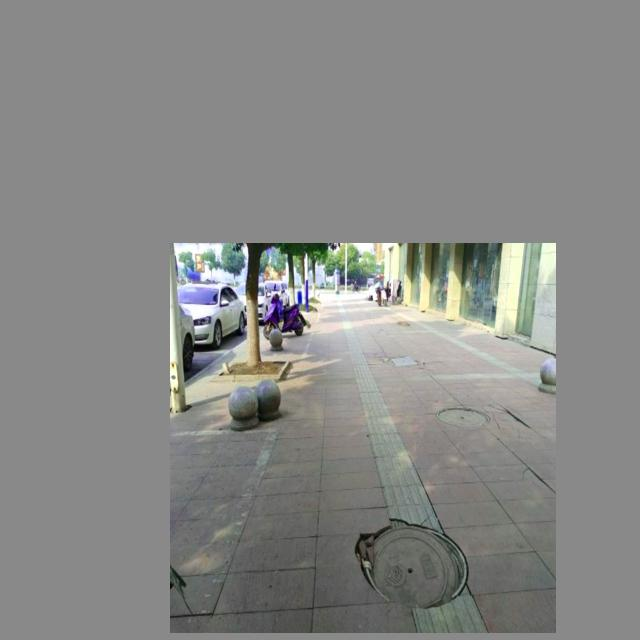good: (437, 407, 491, 424)
uncovered: (359, 525, 468, 609)
